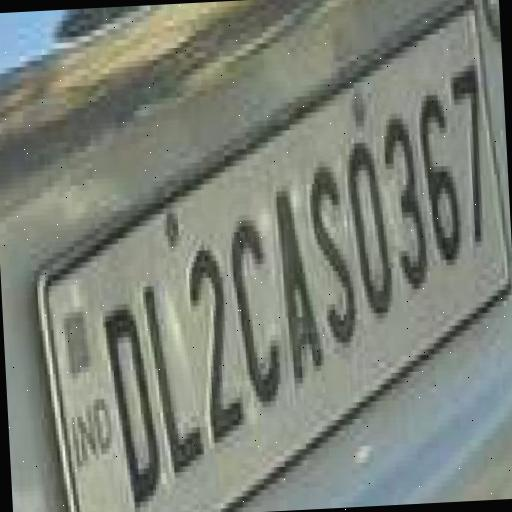number plate: (1, 3, 512, 507)
